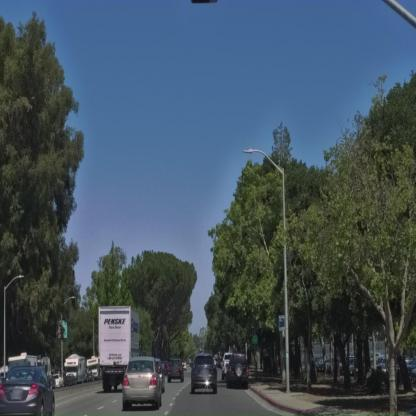car: (2, 366, 56, 416), (122, 357, 166, 411), (224, 352, 250, 388), (164, 359, 184, 383)
motorbike: (191, 361, 218, 394)
truck: (98, 300, 146, 394), (64, 356, 88, 385)
